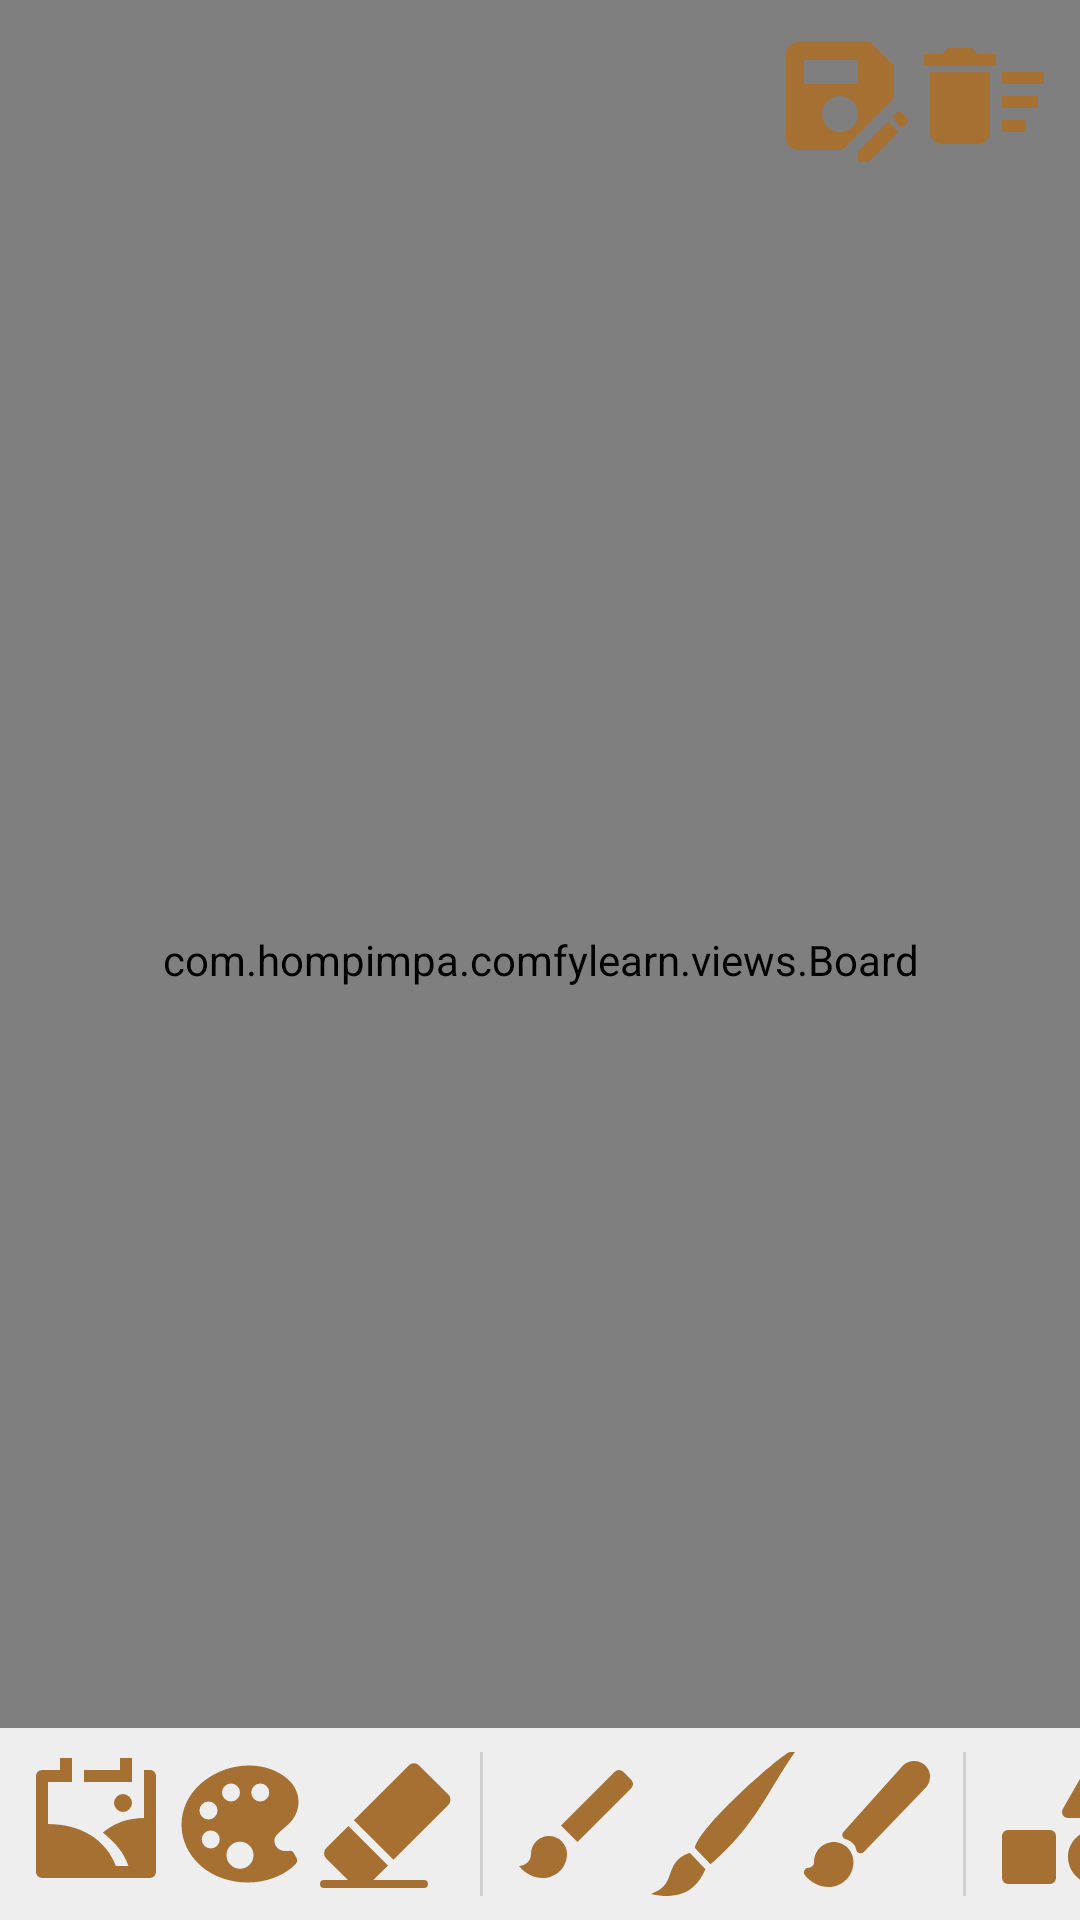

Locate icon controls on the screen. Image size 1080 × 1920, boxes as (x1, y1, x2, y2).
Clear Board: (924, 48, 1044, 144)
Eraser: (320, 1763, 451, 1888)
Load Coloring Page: (36, 1758, 156, 1878)
Pick Color: (181, 1765, 299, 1883)
Save Drawing: (786, 42, 908, 162)
Small Brush: (519, 1770, 633, 1878)
